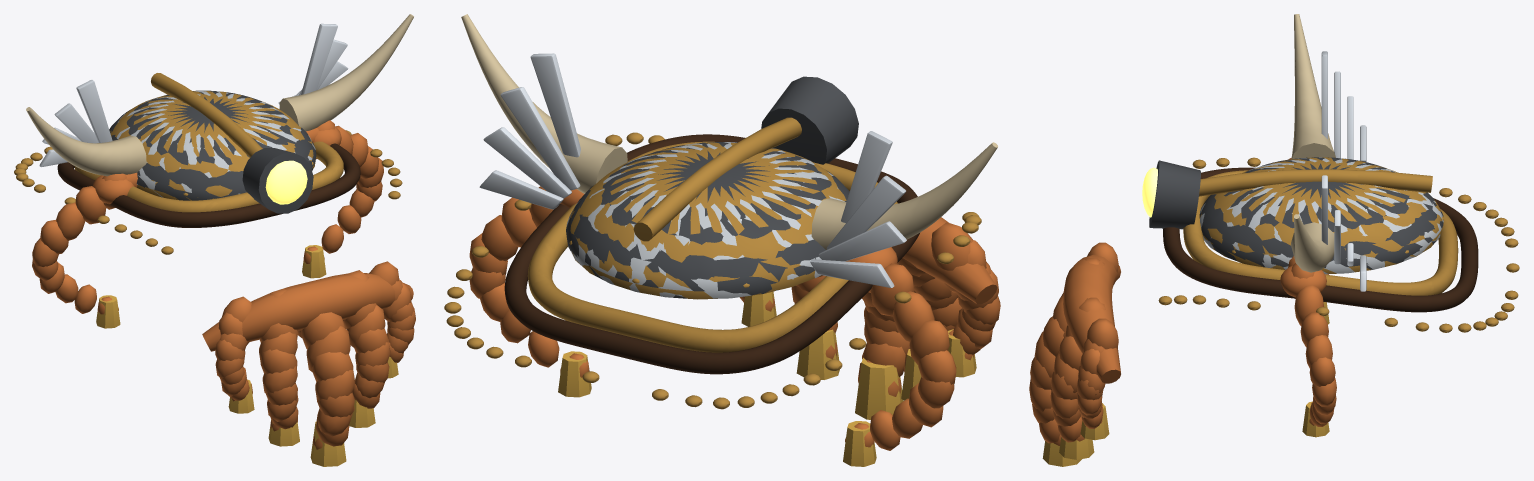
Rendered from dwarf-gear.glb.
The picture shows the model from 3 angles, left to right: view 1: azimuth 30°, elevation 25°; view 2: azimuth 150°, elevation 25°; view 3: azimuth 270°, elevation 25°; orthographic projection. The views are drawn at different scales.
Parts seen in each view (by area): view 1: dwarf_gear_mesh, crest_miner-lamp_mesh, crest_horned-helm_mesh, crest_braids_mesh, crest_winged-helm_mesh; view 2: crest_miner-lamp_mesh, crest_winged-helm_mesh, crest_horned-helm_mesh, dwarf_gear_mesh, crest_braids_mesh; view 3: crest_miner-lamp_mesh, dwarf_gear_mesh, crest_horned-helm_mesh, crest_winged-helm_mesh, crest_braids_mesh.
Part boxes in pixels (x1,y1,x2,y2): dwarf_gear_mesh: (14, 130, 415, 466); crest_miner-lamp_mesh: (57, 73, 360, 227); crest_horned-helm_mesh: (26, 14, 413, 212); crest_braids_mesh: (32, 120, 383, 328); crest_winged-helm_mesh: (39, 23, 348, 212); crest_miner-lamp_mesh: (504, 76, 919, 374); crest_winged-helm_mesh: (479, 53, 906, 352); crest_horned-helm_mesh: (461, 14, 997, 351); dwarf_gear_mesh: (444, 132, 1000, 419); crest_braids_mesh: (469, 186, 956, 466); crest_miner-lamp_mesh: (1142, 157, 1478, 312); dwarf_gear_mesh: (1029, 157, 1519, 466); crest_horned-helm_mesh: (1183, 14, 1458, 295); crest_winged-helm_mesh: (1185, 51, 1457, 295); crest_braids_mesh: (1280, 158, 1336, 437).
Size of the model in its own units: 0.2257 by 0.1778 by 0.2295.
